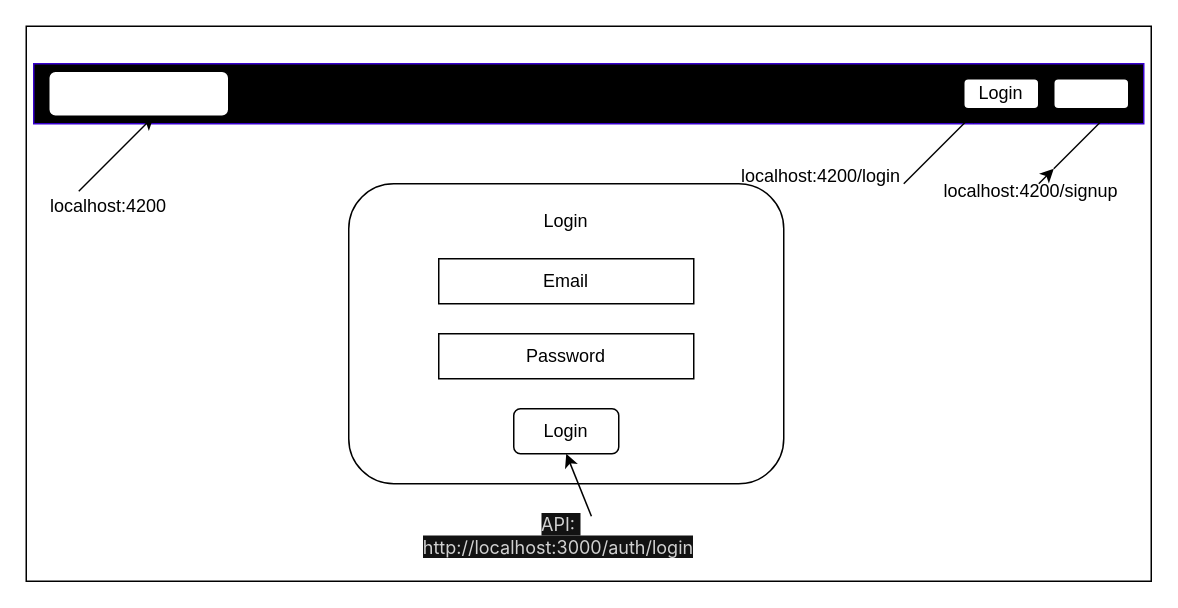
Some shapes in this 1178 by 608 pixel diagram are drawn without their labels. Each missing label, with the centre of its shape:
"BookMyEvent" belongs at [138,93].
"SignUp" belongs at [1090,93].
